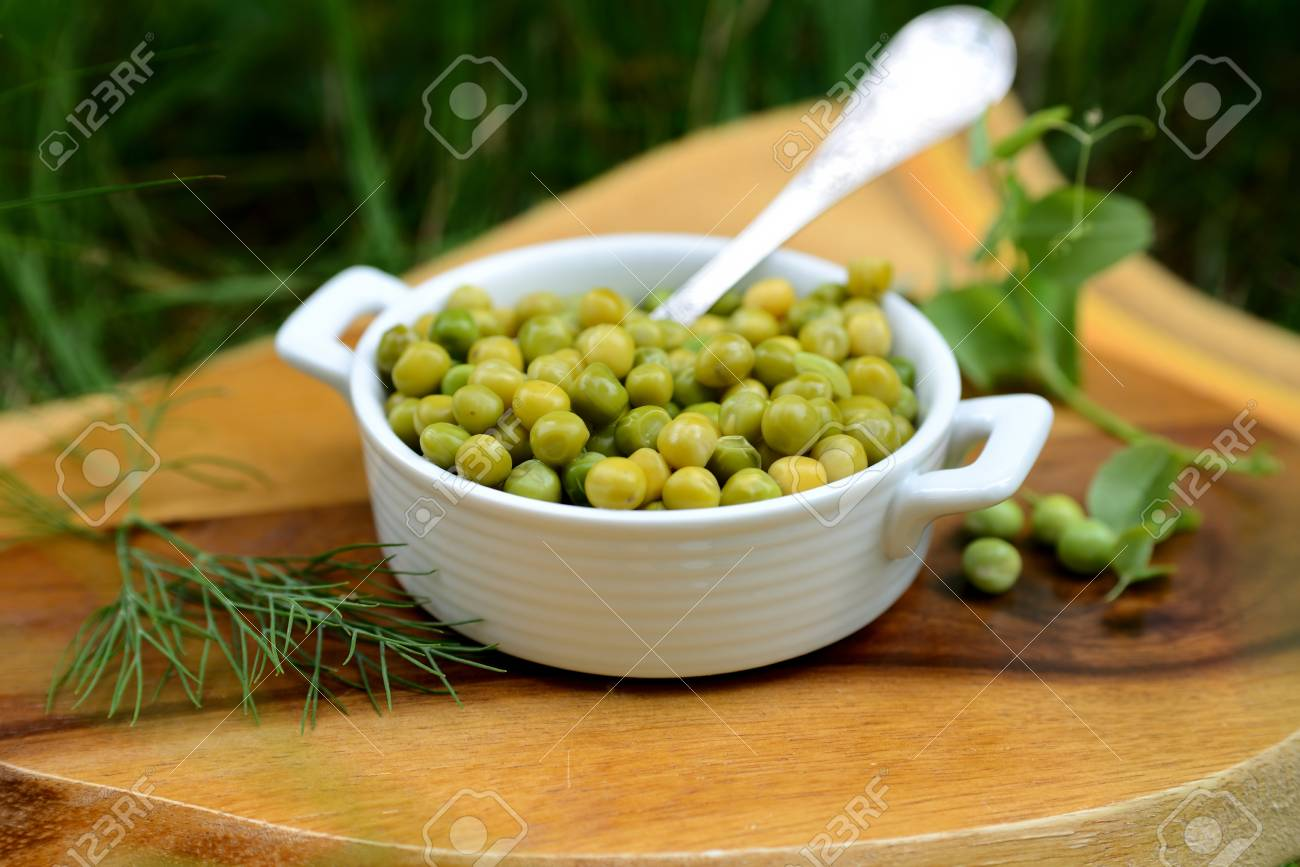boiled peas: (393, 275, 910, 508)
